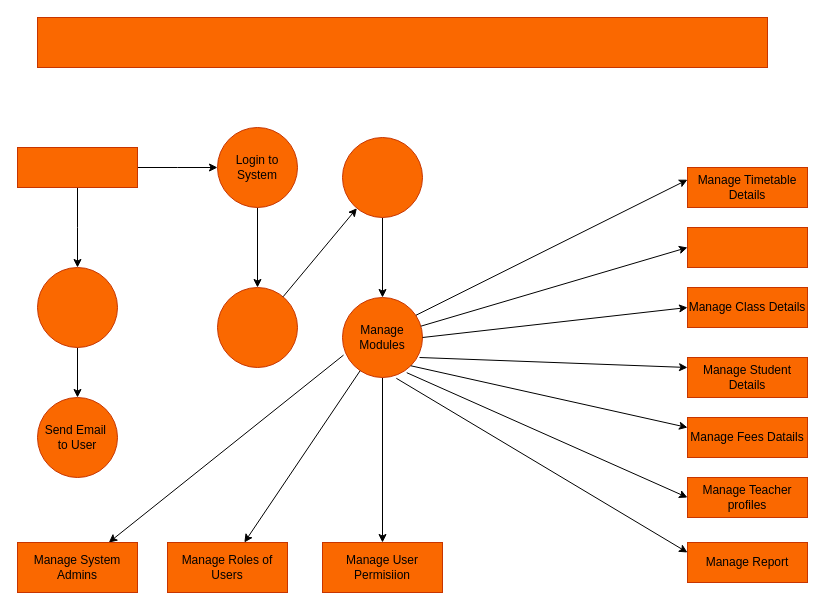
The diagram is 825 pixels wide and 610 high, and some of its shapes have lost their labels. Here are the shapes that lost their labels. From the top down, the box of each, then its label:
(36, 16, 768, 68): Student Information System
(16, 146, 138, 188): Admin
(342, 136, 422, 218): check Roles of Access
(686, 226, 808, 268): Maange Attendance Details
(36, 266, 118, 348): Forgot password
(216, 286, 298, 368): Check Credentials
